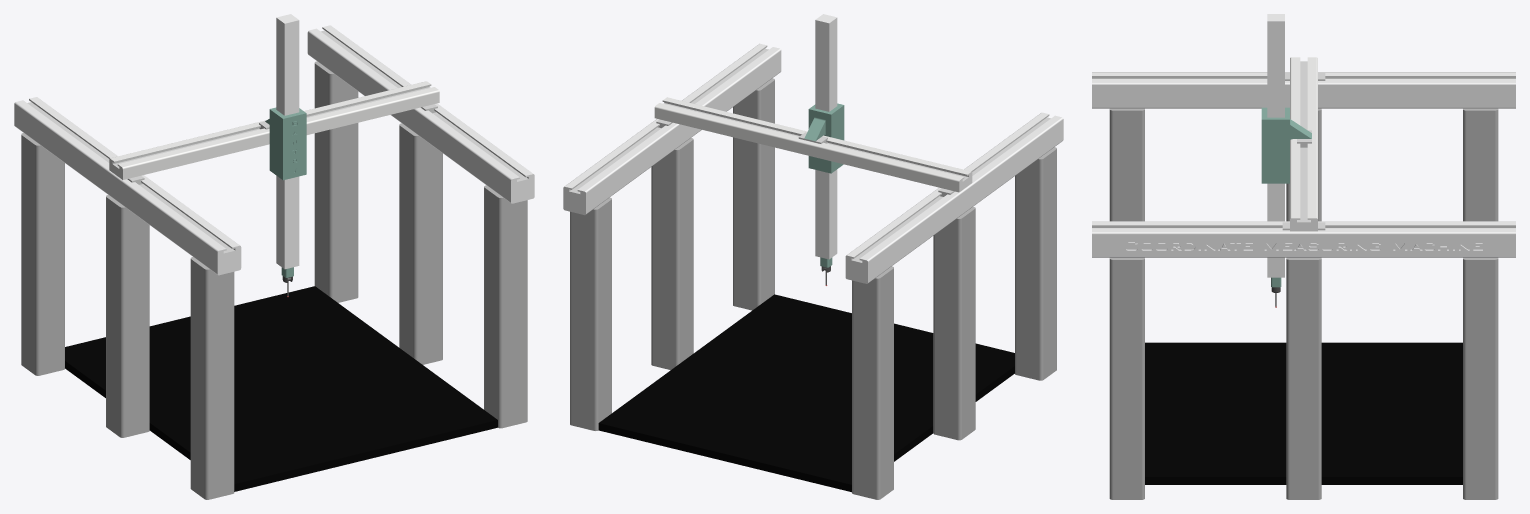
Rendered from cmm.glb.
3 renders of one model, left to right at view 1: azimuth 30°, elevation 25°; view 2: azimuth 150°, elevation 25°; view 3: azimuth 270°, elevation 25°, orthographic. The views are drawn at different scales.
Visible parts, largest first — view 1: Gantry CMM v8; view 2: Gantry CMM v8; view 3: Gantry CMM v8.
Part boxes in pixels (left/top/right/bottom): Gantry CMM v8: left=14, top=14, right=534, bottom=499; Gantry CMM v8: left=563, top=14, right=1063, bottom=499; Gantry CMM v8: left=1092, top=14, right=1515, bottom=499.
Bounding box in the file's own units: 22 × 25 × 24.
